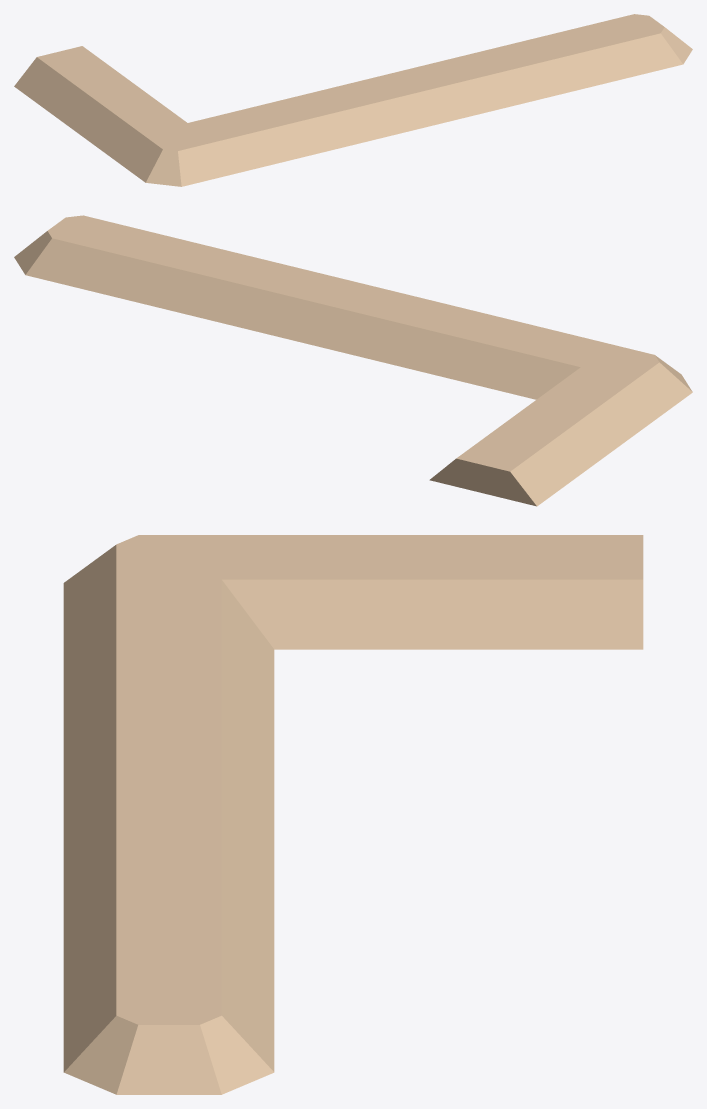
Rendered from Puzzle_Closed_Conduit_Control_Connector.fbx.
3 views of the same model, one above another, from view 1: azimuth 30°, elevation 25°; view 2: azimuth 150°, elevation 25°; view 3: azimuth 270°, elevation 25° (orthographic). The views are drawn at different scales.
Parts seen in each view (by area): view 1: object1; view 2: object1; view 3: object1.
Boxes of the visible parts, x1,y1,x2,y2 form: object1: (14,14,692,186); object1: (14,215,692,506); object1: (63,535,643,1094).
Bounding box in the file's own units: 0.6 × 0.025 × 0.275.
